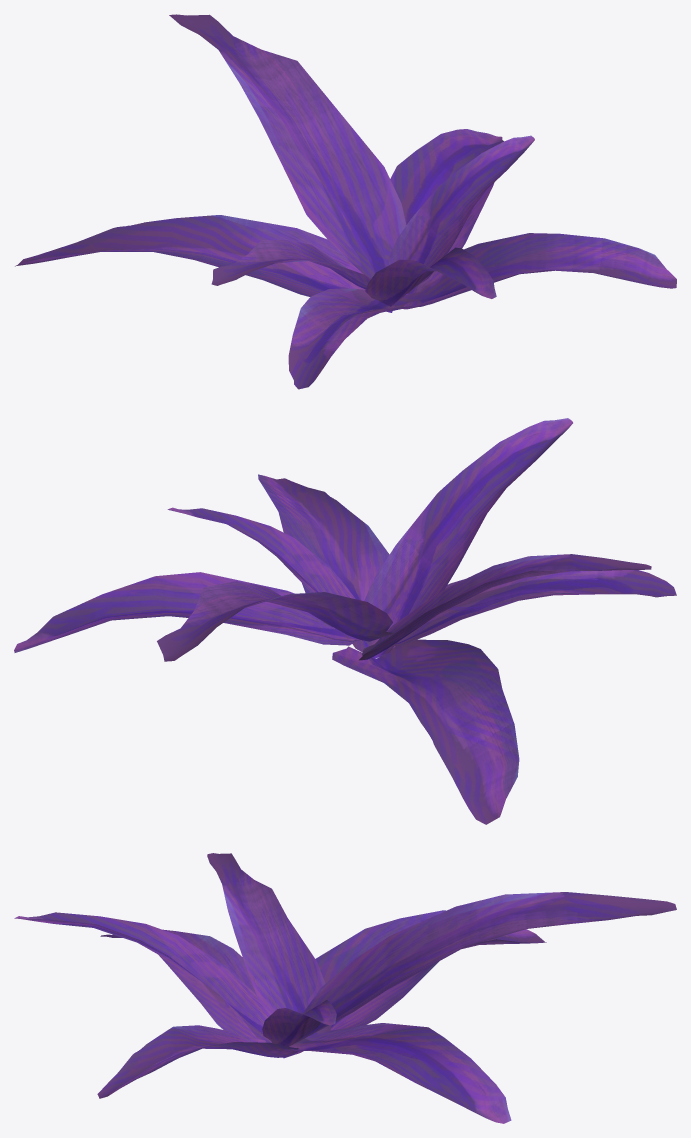
The model's file is touffe_violette1.fbx.
3 views of the same model, one above another, from view 1: azimuth 30°, elevation 25°; view 2: azimuth 150°, elevation 25°; view 3: azimuth 270°, elevation 25° (orthographic). The views are drawn at different scales.
Parts seen in each view (by area): view 1: Plane.015, Plane.014, Plane.018, Plane.021, Plane.017, Plane.016, Plane.020, Plane.019; view 2: Plane.014, Plane.020, Plane.016, Plane.018, Plane.015, Plane.017, Plane.019, Plane.021; view 3: Plane.015, Plane.019, Plane.016, Plane.020, Plane.014, Plane.018, Plane.017, Plane.021.
Part boxes in pixels (bbox=[...]): Plane.015: bbox=[169, 14, 406, 278]; Plane.014: bbox=[15, 215, 392, 312]; Plane.018: bbox=[388, 233, 676, 311]; Plane.021: bbox=[388, 135, 534, 293]; Plane.017: bbox=[288, 288, 425, 389]; Plane.016: bbox=[390, 129, 503, 294]; Plane.020: bbox=[365, 247, 496, 306]; Plane.019: bbox=[211, 240, 370, 289]; Plane.014: bbox=[332, 639, 519, 824]; Plane.020: bbox=[364, 418, 572, 656]; Plane.016: bbox=[14, 572, 363, 652]; Plane.018: bbox=[258, 474, 395, 658]; Plane.015: bbox=[157, 581, 394, 661]; Plane.017: bbox=[391, 570, 676, 646]; Plane.019: bbox=[359, 554, 651, 660]; Plane.021: bbox=[167, 507, 355, 598]; Plane.015: bbox=[288, 892, 676, 1046]; Plane.019: bbox=[207, 853, 331, 1035]; Plane.016: bbox=[277, 1023, 511, 1123]; Plane.020: bbox=[14, 912, 271, 1041]; Plane.014: bbox=[283, 910, 546, 1058]; Plane.018: bbox=[97, 1025, 298, 1098]; Plane.017: bbox=[100, 929, 271, 1042]; Plane.021: bbox=[262, 1000, 336, 1046].
Size of the model in its own units: 224 by 74.07 by 288.
1 material, 1 textured.
